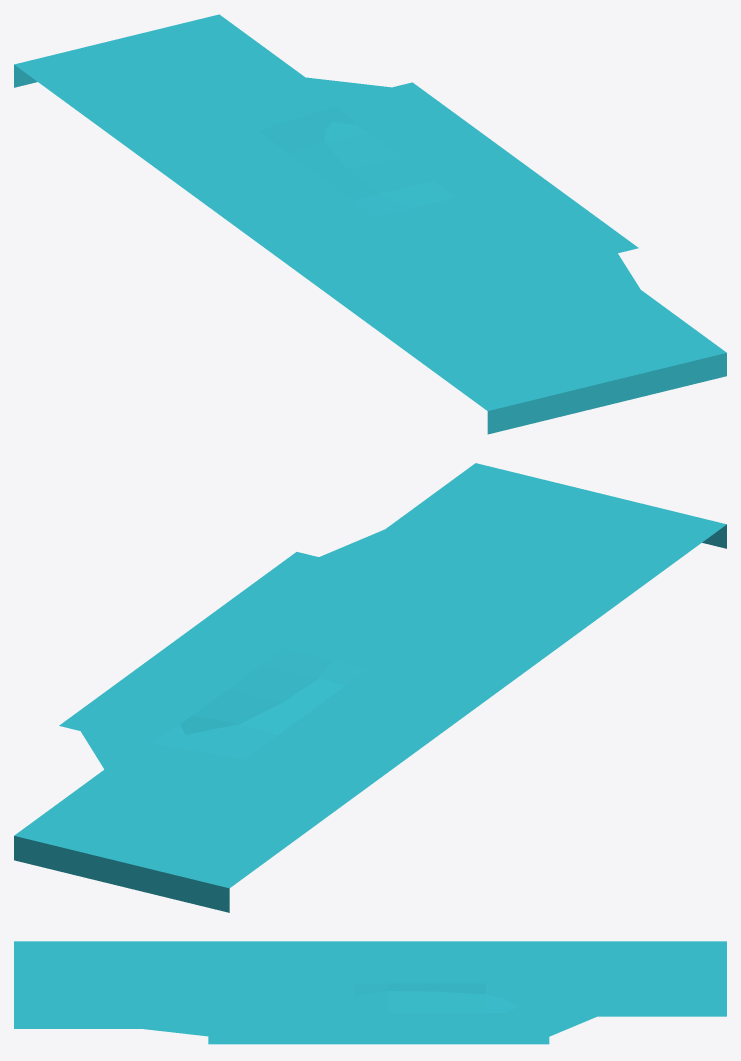
File: hongkong-water.fbx
3 views of the same model, one above another, from view 1: azimuth 30°, elevation 25°; view 2: azimuth 150°, elevation 25°; view 3: azimuth 270°, elevation 25° (orthographic). The views are drawn at different scales.
Visible parts, largest first — view 1: hongkong-water; view 2: hongkong-water; view 3: hongkong-water.
Part boxes in pixels (x1=…): hongkong-water: x1=14, y1=14, x2=726, y2=434; hongkong-water: x1=14, y1=463, x2=726, y2=912; hongkong-water: x1=14, y1=941, x2=726, y2=1044.
Bounding box in the file's own units: 6.97 × 0.6339 × 20.37.
